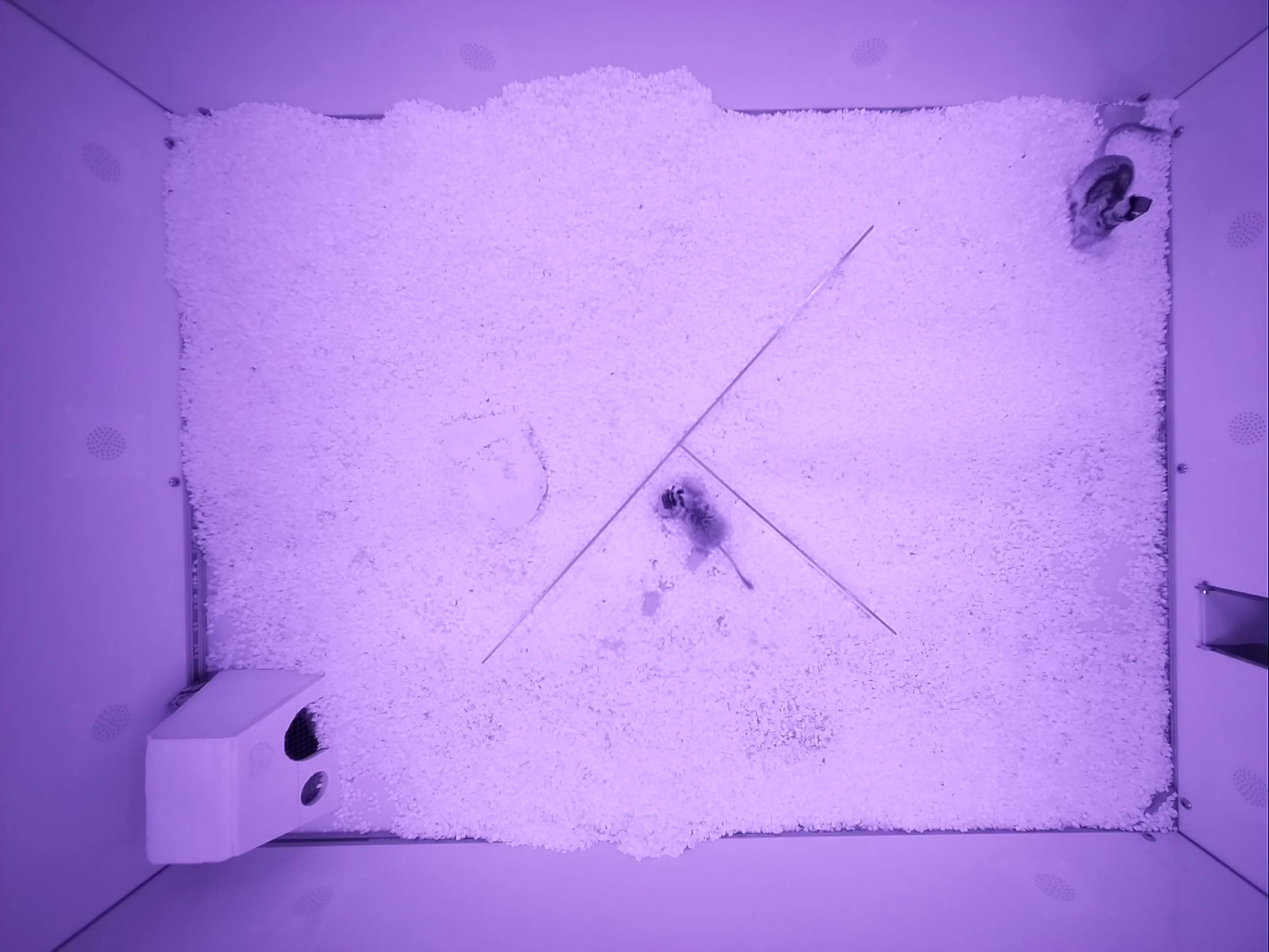adult_back: (1069, 122, 1166, 248), (661, 479, 753, 589)
